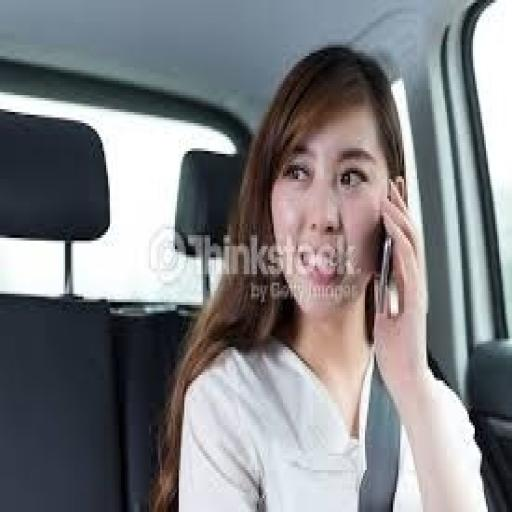calling: (147, 42, 492, 509)
